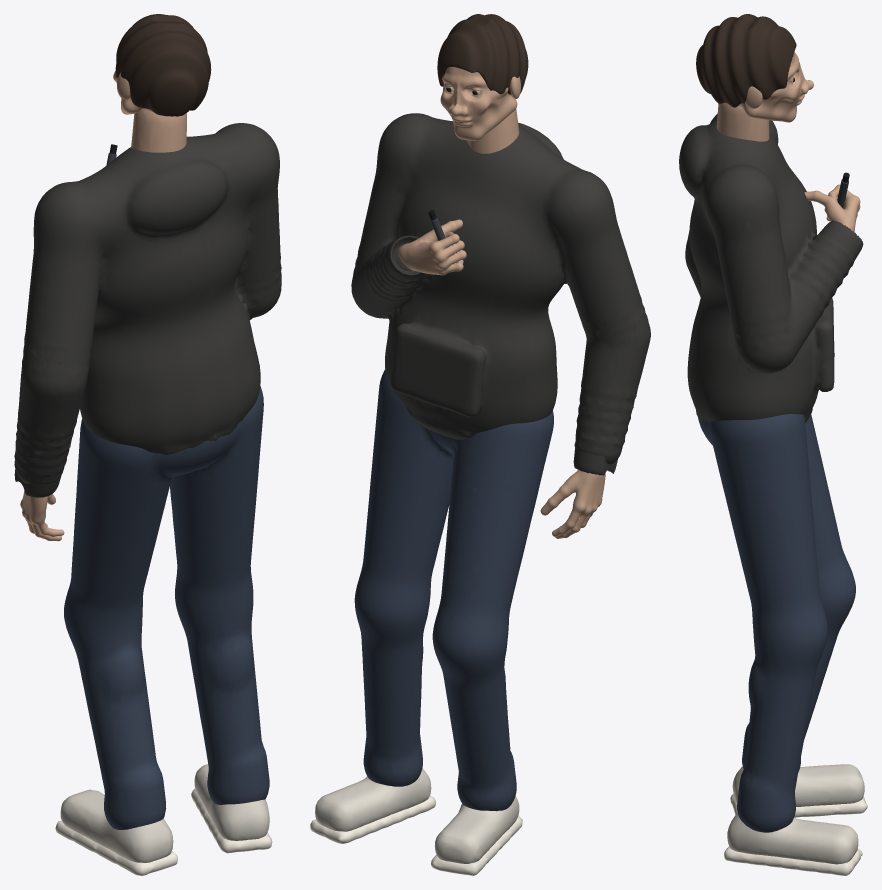
The model's file is vape_door.glb.
3 views of the same model, side by side, from view 1: azimuth 30°, elevation 25°; view 2: azimuth 150°, elevation 25°; view 3: azimuth 270°, elevation 25° (orthographic). The views are drawn at different scales.
Parts seen in each view (by area): view 1: vape_door_body, vape_door_head, vape_door_hands; view 2: vape_door_body, vape_door_head, vape_door_hands; view 3: vape_door_body, vape_door_head, vape_door_hands.
Part boxes in pixels (x1,y1,x2,y2): vape_door_body: (14,109,281,875); vape_door_head: (113,14,211,116); vape_door_hands: (14,469,64,541); vape_door_body: (310,109,650,875); vape_door_head: (437,14,528,140); vape_door_hands: (383,219,617,538); vape_door_body: (679,102,867,875); vape_door_head: (696,14,813,122); vape_door_hands: (804,184,863,267).
Size of the model in its own units: 0.6193 by 1.76 by 0.3765.
